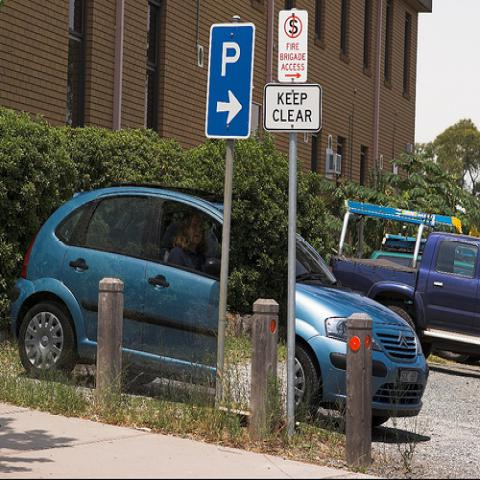car: (8, 185, 430, 429), (368, 250, 422, 267)
truck: (329, 199, 479, 360)
